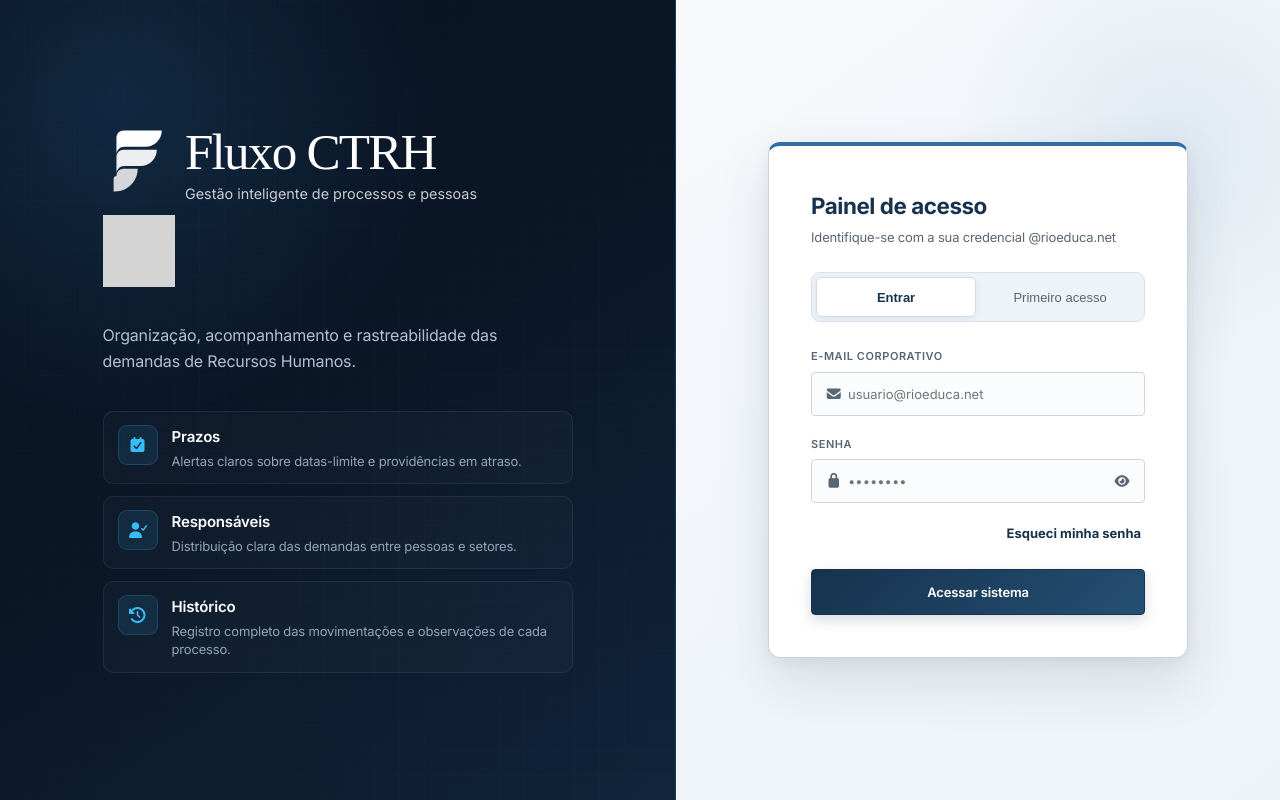
it: segurança e acessibilidade do login › permite mostrar e ocultar a senha
Click the button named "mostrar senha": coordinates (1122, 482) [1103, 462, 1141, 500]
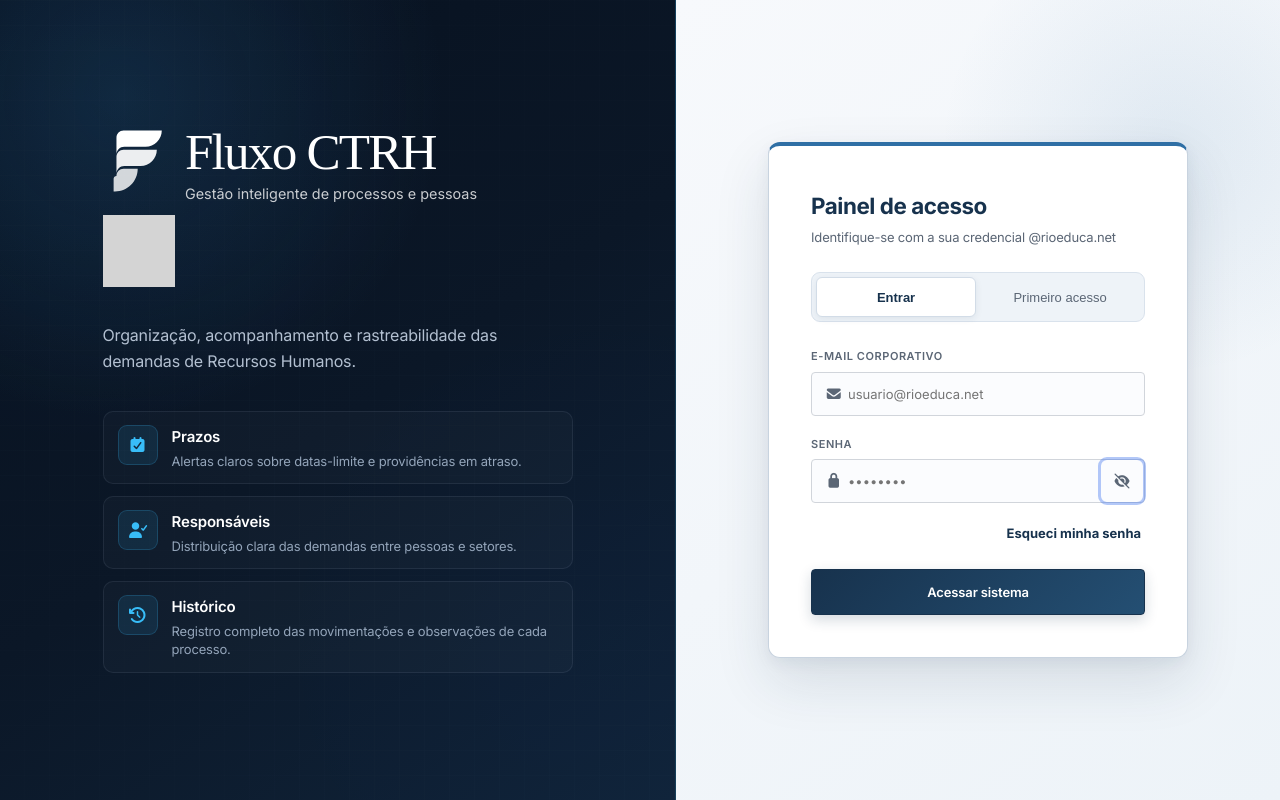
expect the button named "ocultar senha" is shown: met, box [1103, 462, 1141, 500]
